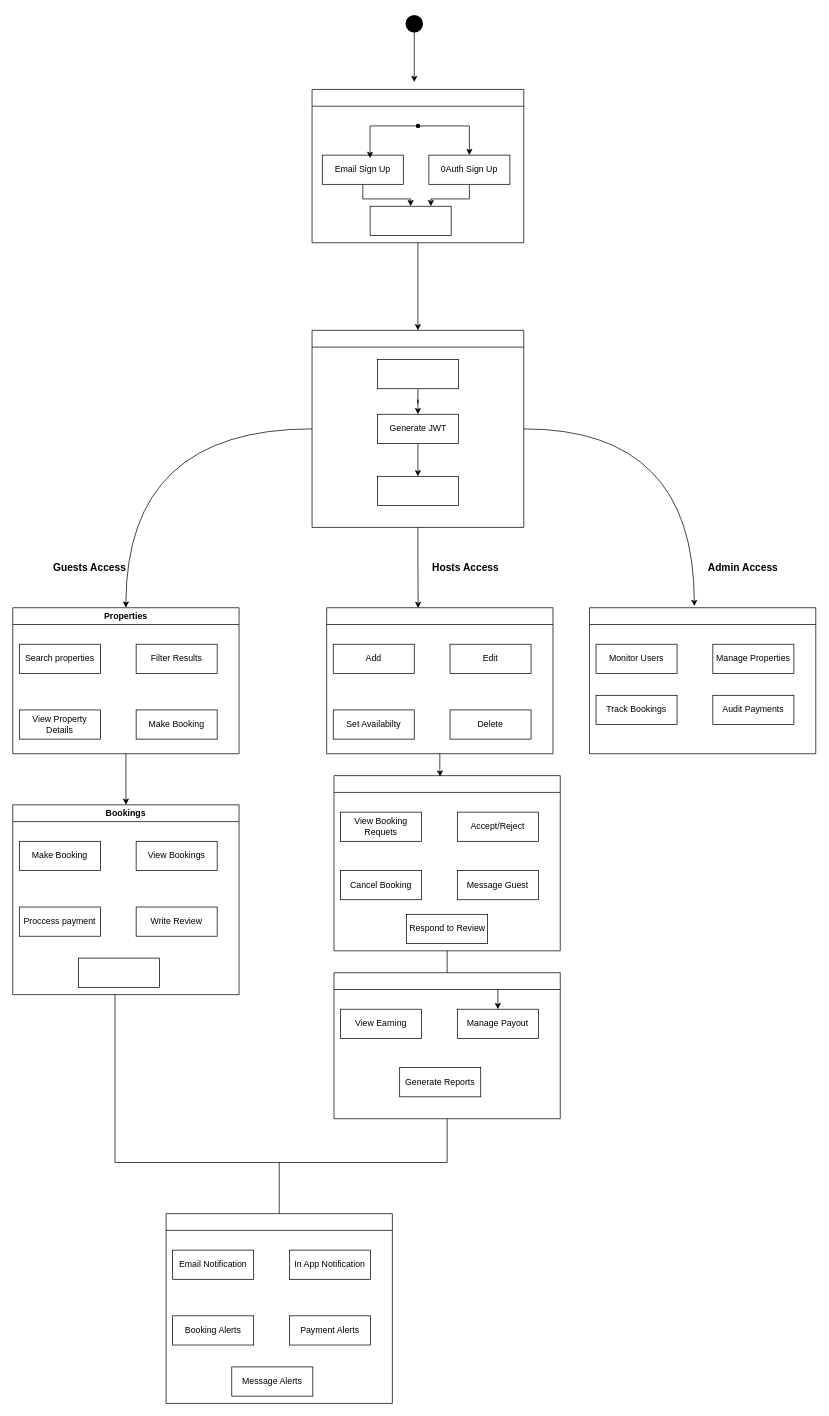
This 829x1416 diagram has some shape labels left out. The box of each missing label's shape, as (x1, y1, x2, y2) in pixels:
Admin Dashboard: (589, 607, 816, 754)
Authorization: (377, 476, 458, 506)
Booking Management: (333, 775, 560, 951)
Financial Management: (333, 972, 560, 1119)
Login: (377, 359, 458, 389)
Message Host: (78, 957, 160, 987)
Notification system: (165, 1213, 392, 1403)
Property Management: (326, 607, 553, 754)
Update Profile: (369, 205, 451, 235)
User Authentication: (311, 330, 524, 527)
User Registration: (311, 89, 524, 243)
